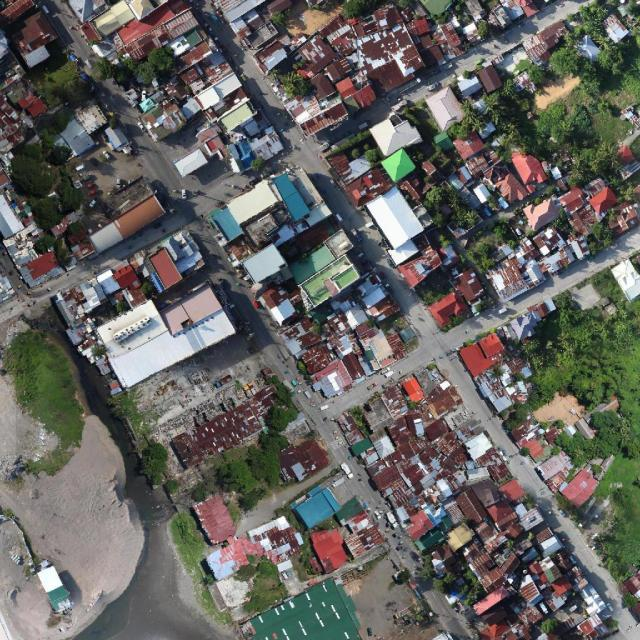building: (341, 380, 629, 640), (248, 226, 421, 407), (92, 272, 236, 390), (214, 184, 334, 270)
